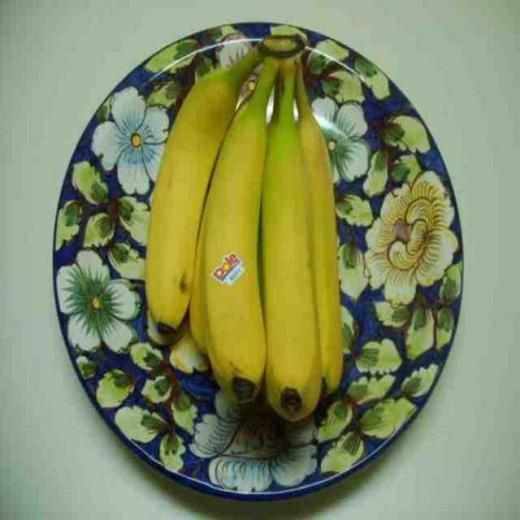Banana: (142, 51, 262, 332), (204, 57, 274, 405), (260, 61, 322, 424), (295, 66, 344, 398), (188, 221, 206, 353)
